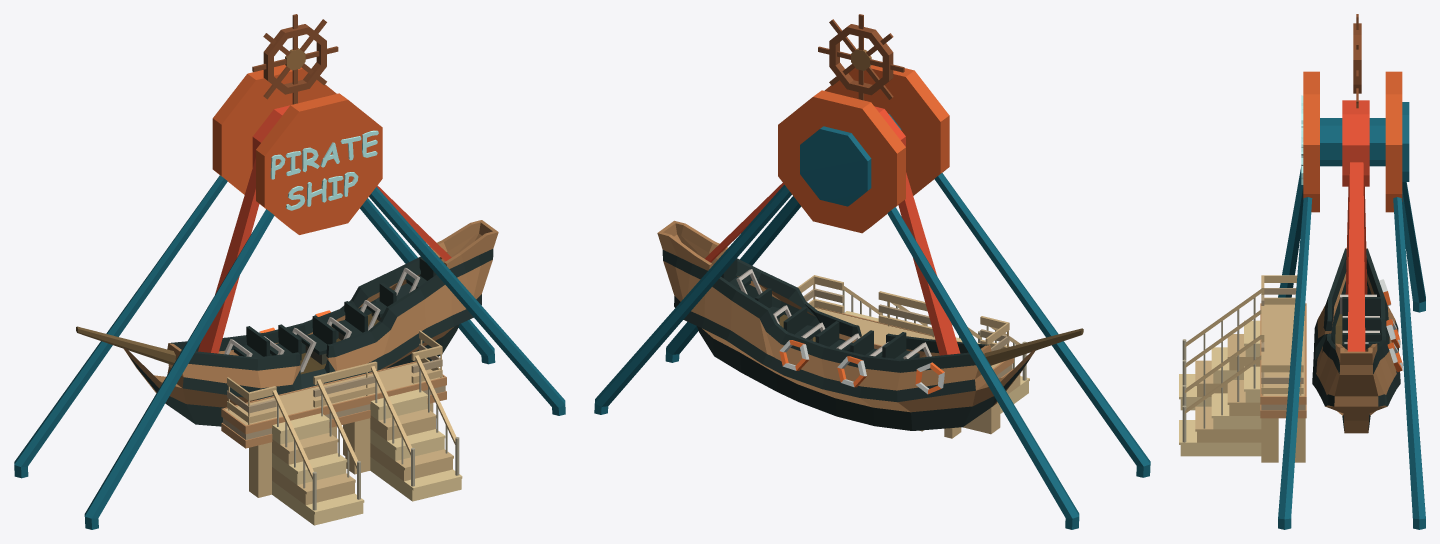
Rendered from ShipRide.fbx.
3 views of the same model, side by side, from view 1: azimuth 30°, elevation 25°; view 2: azimuth 150°, elevation 25°; view 3: azimuth 270°, elevation 25° (orthographic). The views are drawn at different scales.
Parts seen in each view (by area): view 1: ShipRide_Base, Ship; view 2: ShipRide_Base, Ship; view 3: ShipRide_Base, Ship.
Boxes of the visible parts, x1,y1,x2,y2 form: ShipRide_Base: (14, 64, 565, 529); Ship: (76, 14, 498, 426); ShipRide_Base: (594, 65, 1150, 529); Ship: (657, 14, 1083, 430); ShipRide_Base: (1179, 71, 1425, 529); Ship: (1312, 14, 1402, 433).
Bounding box in the file's own units: 979 × 826 × 456.
